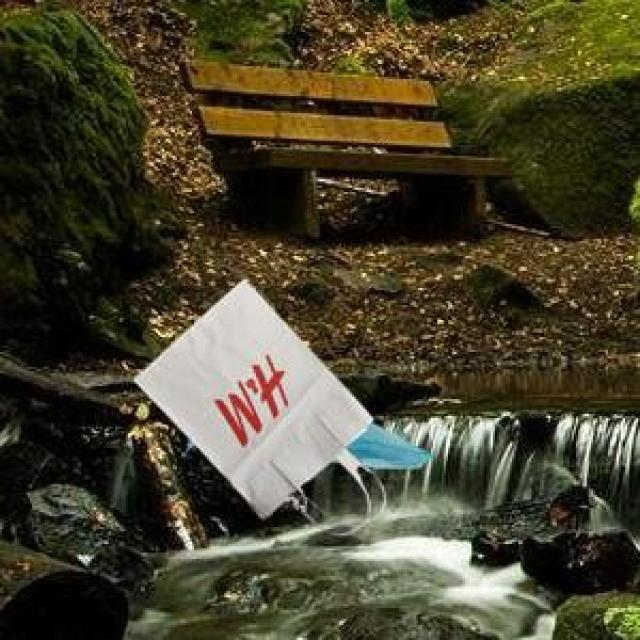paper: (130, 275, 369, 514)
